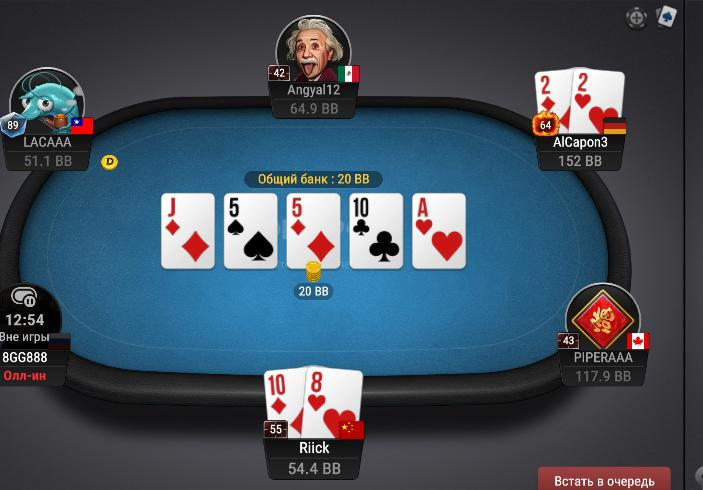10c: (351, 195, 401, 269)
10d: (264, 369, 303, 437)
2d: (535, 69, 572, 134)
2h: (573, 66, 625, 135)
5d: (288, 195, 339, 267)
5s: (224, 195, 277, 267)
8h: (305, 366, 360, 440)
Ah: (414, 194, 464, 268)
Jd: (162, 193, 213, 268)
